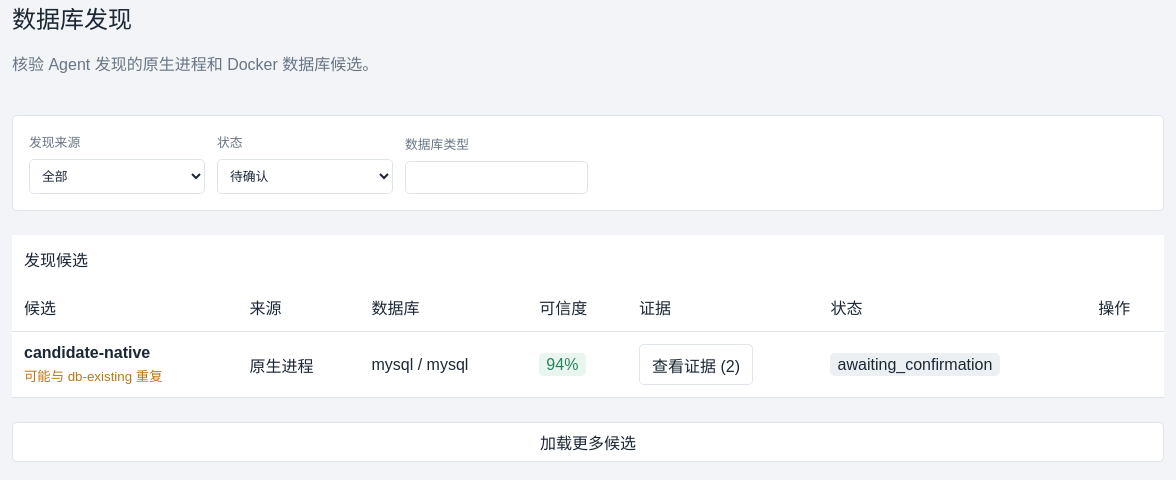
Test: Discovery candidate workflows › loads the next discovery cursor instead of silently truncating candidates
Click the button "加载更多候选" at x=588, y=442, box left=12, top=422, right=1164, bottom=462
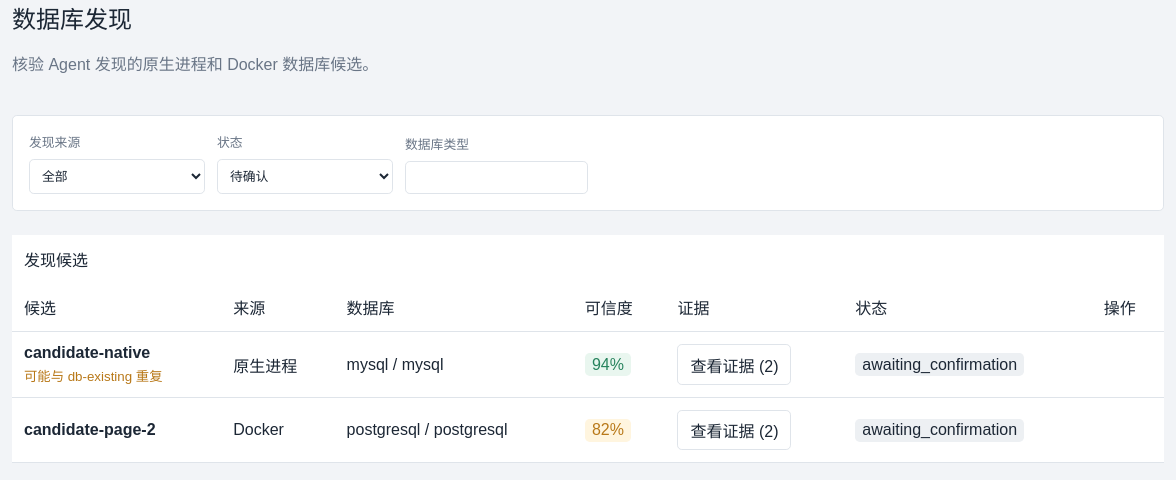
Check: the text "candidate-page-2" is shown, box left=24, top=421, right=156, bottom=438
